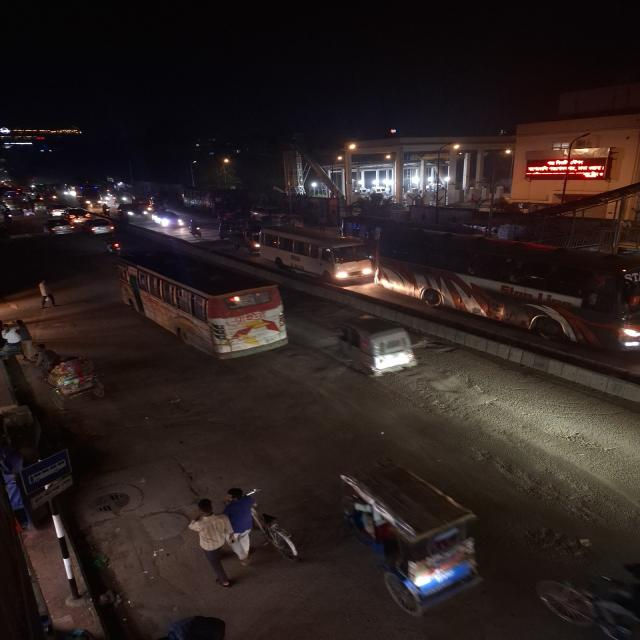bicycle: (252, 481, 311, 575)
bus: (380, 226, 640, 355), (108, 250, 296, 360), (260, 224, 376, 284)
car: (81, 218, 117, 236), (41, 218, 76, 236), (64, 208, 92, 222), (46, 206, 66, 218)
cng: (324, 315, 421, 379)
motorcycle: (105, 238, 126, 256), (187, 224, 205, 240)
pedestrian: (180, 482, 232, 588), (32, 278, 59, 311)
rickshaw: (335, 455, 496, 616), (28, 342, 111, 402)
